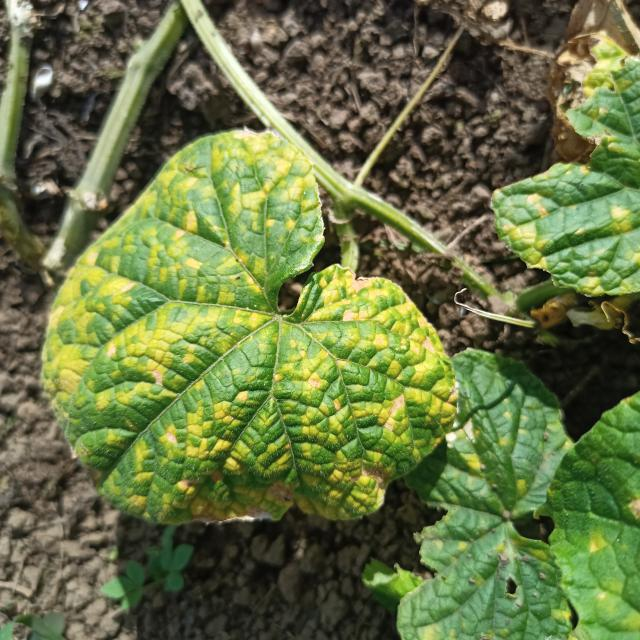disease_cucumber: (48, 134, 442, 515)
